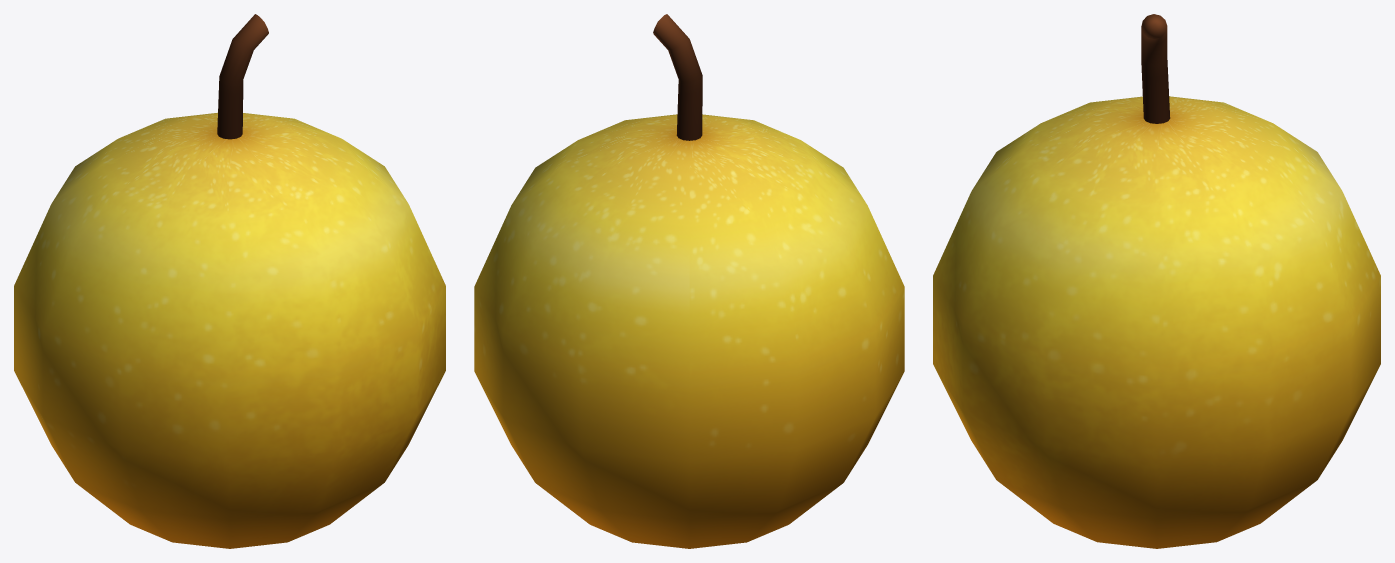
The model's file is PassionFruit_Yellow.fbx.
The picture shows the model from 3 angles, left to right: view 1: azimuth 30°, elevation 25°; view 2: azimuth 150°, elevation 25°; view 3: azimuth 270°, elevation 25°; orthographic projection. The views are drawn at different scales.
Parts seen in each view (by area): view 1: PassionFruit_Yellow; view 2: PassionFruit_Yellow; view 3: PassionFruit_Yellow.
Boxes of the visible parts, bbox=[...] form: PassionFruit_Yellow: bbox=[14, 14, 445, 548]; PassionFruit_Yellow: bbox=[474, 14, 904, 548]; PassionFruit_Yellow: bbox=[933, 14, 1380, 548].
Size of the model in its own units: 31.03 by 40.43 by 31.03.
Materials: 1 (1 with a texture image).
